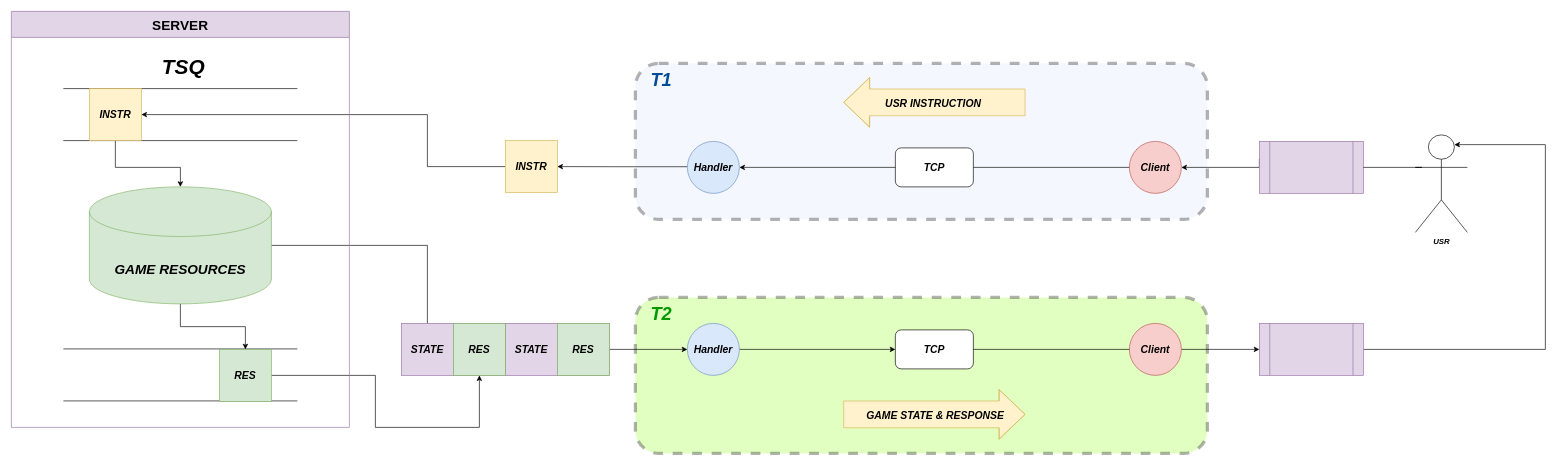
Image size: 1562x466. Some labels were removed from this diagram. The centre of each missing label's shape, as x and y in pixels:
MOUSE / KEYBOARD EVENT: point 1311,167
RENDER: point 1311,349
